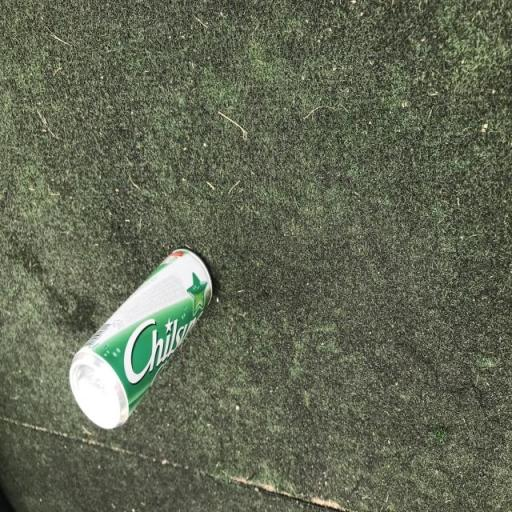metal: (64, 238, 218, 438)
